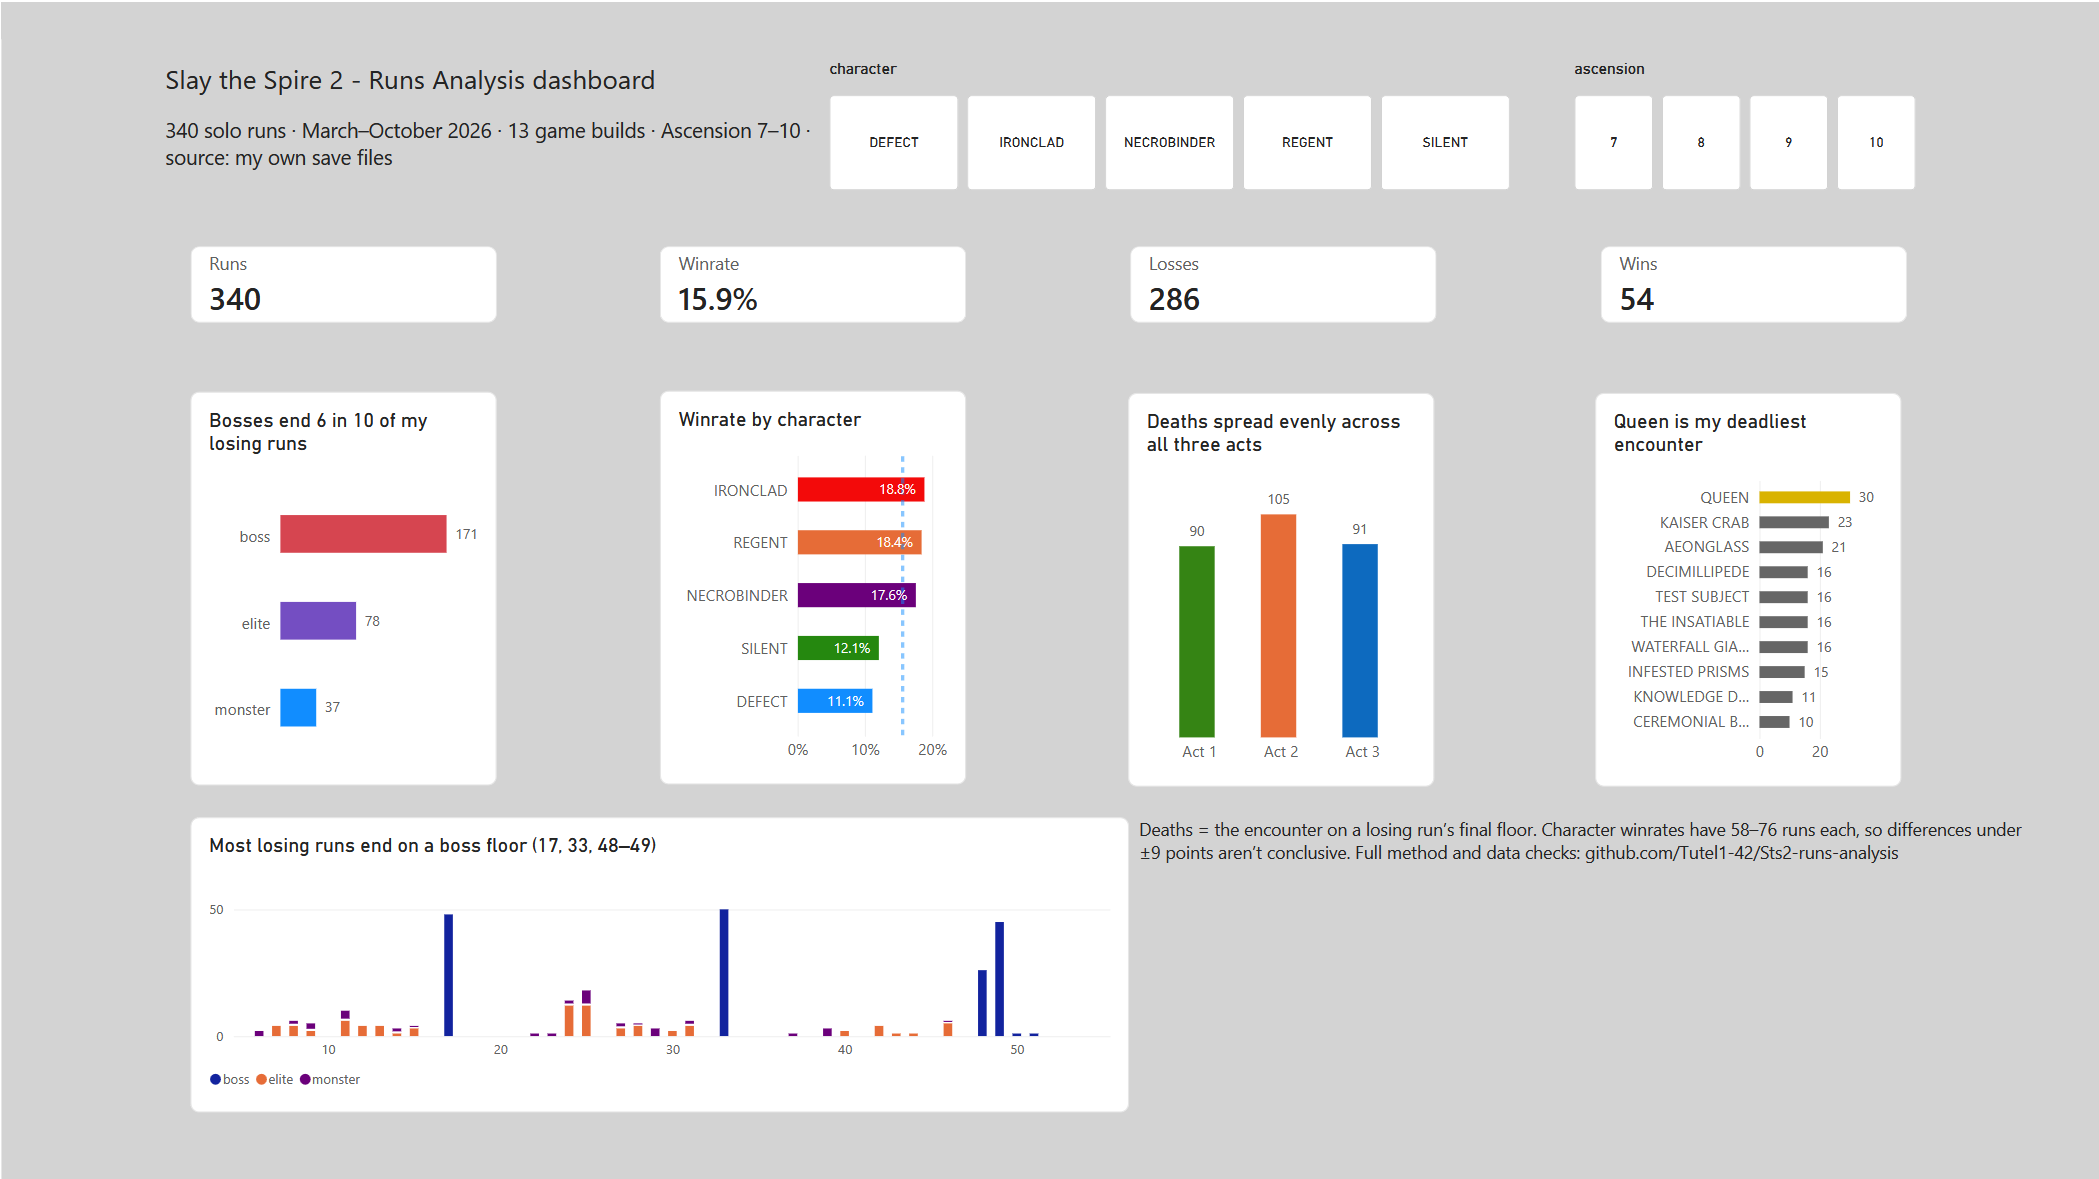

What the dashboard file says about the page in this screenshot:
{"tool":"powerbi","page":{"name":"Page 1","canvas":[1920,1080],"ordinal":0},"visuals":[{"type":"advancedSlicerVisual","fields":{"Values":["runs.character"]},"box":[756.8,53,624.3,118.8],"z":0},{"type":"cardVisual","fields":{"Data":["runs.Runs"]},"box":[172.8,222.8,280,70],"z":1000},{"type":"cardVisual","fields":{"Data":["runs.Winrate"]},"box":[602.4,222.8,280,70],"z":2000},{"type":"cardVisual","fields":{"Data":["runs.Losses"]},"box":[1032,222.8,280,70],"z":3000},{"type":"advancedSlicerVisual","fields":{"Values":["runs.ascension"]},"box":[1438,53,315.1,118.8],"z":4000},{"type":"clusteredBarChart","title":"Winrate by character","fields":{"Category":["runs.character"],"Y":["runs.Winrate"]},"box":[601.7,355.3,280,360],"z":5000},{"type":"clusteredColumnChart","title":"Deaths spread evenly across all three acts","fields":{"Category":["runs.death_act"],"Y":["runs.Losses"]},"box":[1030.3,357.3,280,360],"z":6000},{"type":"clusteredBarChart","title":"Bosses end 6 in 10 of my losing runs","fields":{"Category":["runs.death_room"],"Y":["runs.Losses"]},"box":[172.8,356.3,280,360],"z":7000},{"type":"clusteredBarChart","title":"Queen is my deadliest encounter","fields":{"Category":["runs.killed_by"],"Y":["runs.Losses"]},"box":[1456.7,357.3,280,360],"z":8000},{"type":"cardVisual","fields":{"Data":["runs.Wins"]},"box":[1461.6,222.8,280,70],"z":9000},{"type":"textbox","box":[150.2,53,591.9,269.9],"z":10000},{"type":"columnChart","title":"Most losing runs end on a boss floor (17, 33, 48–49)","fields":{"Category":["runs.final_floor"],"Series":["runs.death_room"],"Y":["runs.Losses"]},"box":[172.8,745,857.9,269.9],"z":10001},{"type":"textbox","box":[1039.5,745,814.7,269.9],"z":10002}]}

Visuals, with their boxes in screenshot pixels (x1, y1, x2, y2), scaled from the page's 1920x1080 canvas onto the 2099x1179 screenshot:
advancedSlicerVisual - runs.character: [left=827, top=58, right=1510, bottom=188]
cardVisual - runs.Runs: [left=189, top=243, right=495, bottom=320]
cardVisual - runs.Winrate: [left=659, top=243, right=965, bottom=320]
cardVisual - runs.Losses: [left=1128, top=243, right=1434, bottom=320]
advancedSlicerVisual - runs.ascension: [left=1572, top=58, right=1917, bottom=188]
"Winrate by character" clusteredBarChart: [left=658, top=388, right=964, bottom=781]
"Deaths spread evenly across all three acts" clusteredColumnChart: [left=1126, top=390, right=1432, bottom=783]
"Bosses end 6 in 10 of my losing runs" clusteredBarChart: [left=189, top=389, right=495, bottom=782]
"Queen is my deadliest encounter" clusteredBarChart: [left=1593, top=390, right=1899, bottom=783]
cardVisual - runs.Wins: [left=1598, top=243, right=1904, bottom=320]
textbox: [left=164, top=58, right=811, bottom=352]
"Most losing runs end on a boss floor (17, 33, 48–49)" columnChart: [left=189, top=813, right=1127, bottom=1108]
textbox: [left=1136, top=813, right=2027, bottom=1108]
